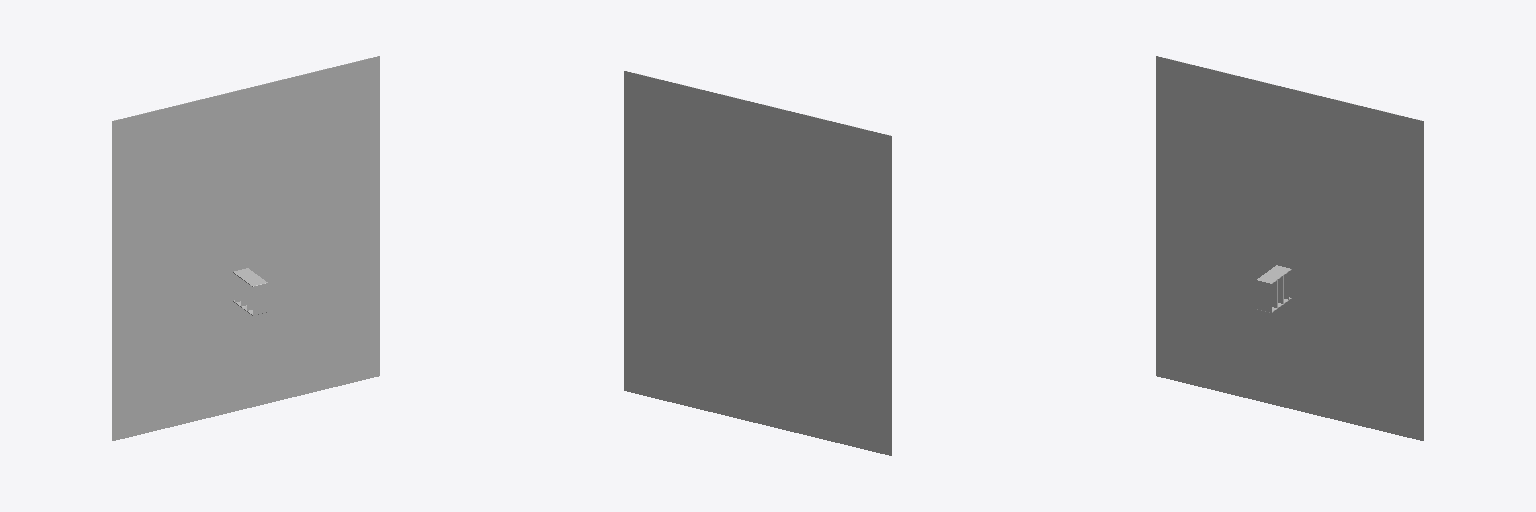
File: bookshelves_center-floor.obj
3 views of the same model, side by side, from view 1: azimuth 30°, elevation 25°; view 2: azimuth 150°, elevation 25°; view 3: azimuth 330°, elevation 25° (orthographic).
Visible parts, largest first — view 1: convex_4.001_convex_4.006; view 2: convex_4.001_convex_4.006; view 3: convex_4.001_convex_4.006.
Boxes of the visible parts, x1,y1,x2,y2 form: convex_4.001_convex_4.006: [112, 56, 379, 440]; convex_4.001_convex_4.006: [624, 71, 891, 455]; convex_4.001_convex_4.006: [1156, 56, 1423, 440].
Size of the model in its own units: 10.65 by 12.17 by 1.42.